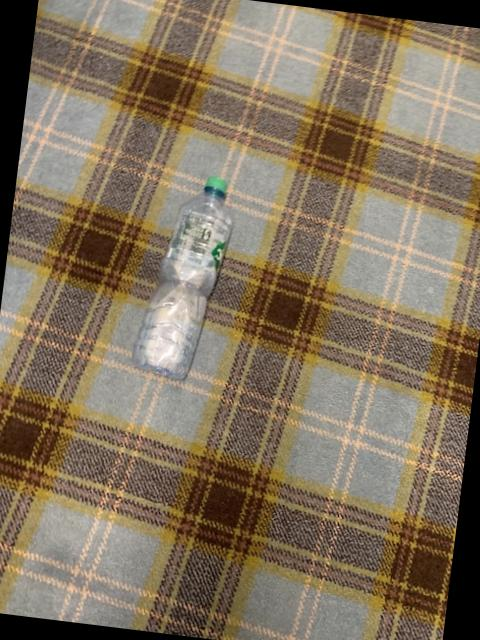plastic: (133, 174, 232, 376)
